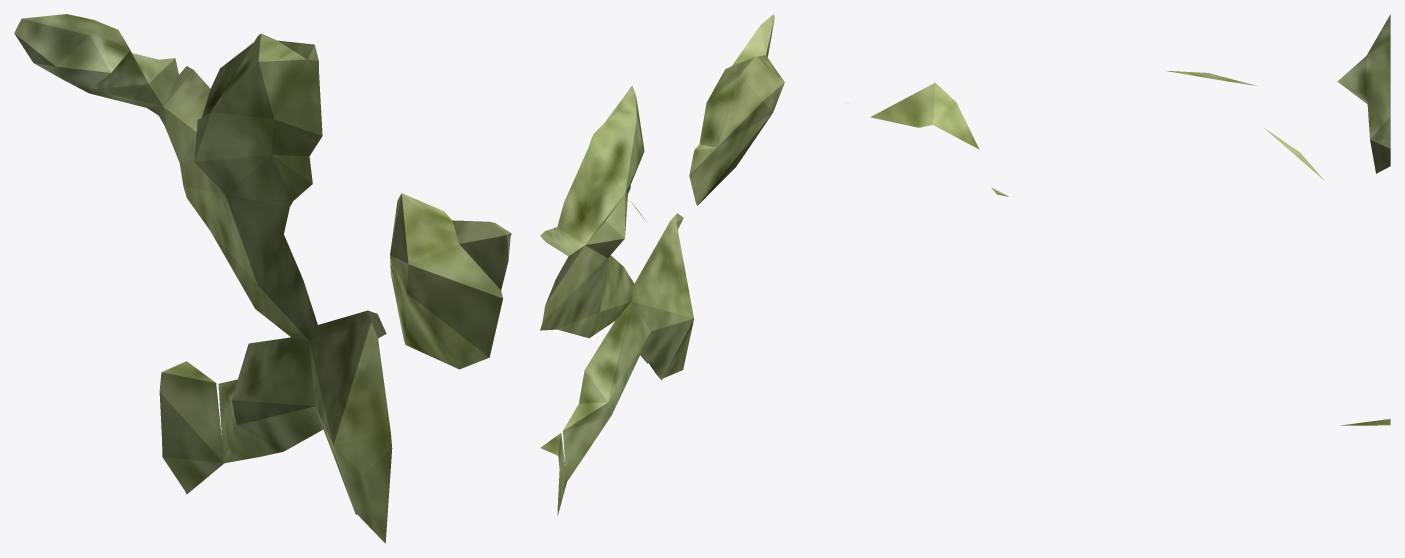
The picture shows the model from 3 angles, left to right: view 1: azimuth 30°, elevation 25°; view 2: azimuth 150°, elevation 25°; view 3: azimuth 270°, elevation 25°; orthographic projection. The views are drawn at different scales.
Size of the model in its own units: 0.7349 by 2.21 by 2.4.
1 material, 1 textured.
